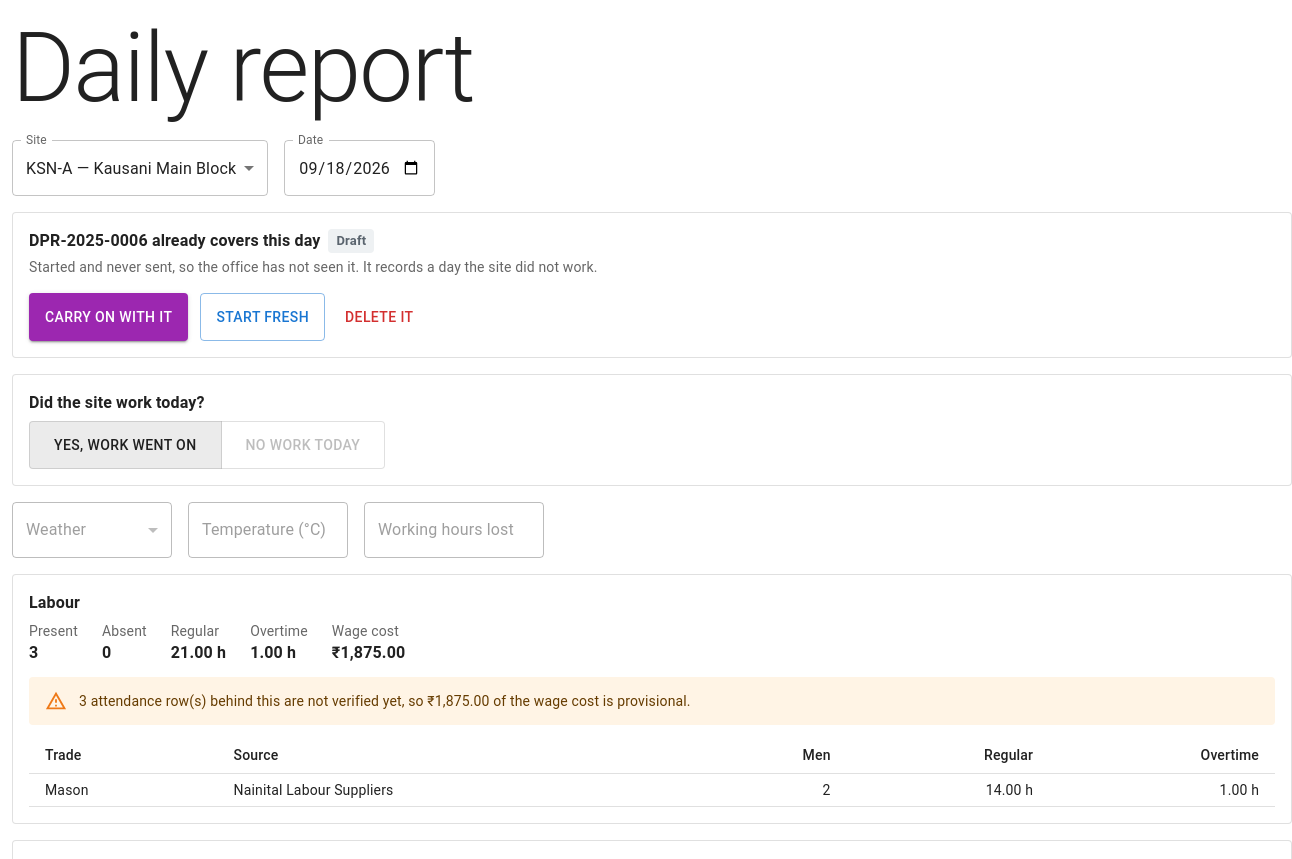
Test: DprWizardPage › carries a lost day’s cause back into the form
The image size is (1292, 859).
What coordinates should you click on to do the following:
click the button "Carry on with it"
I would click on:
 (109, 317)
Its box is [29,293,188,341].
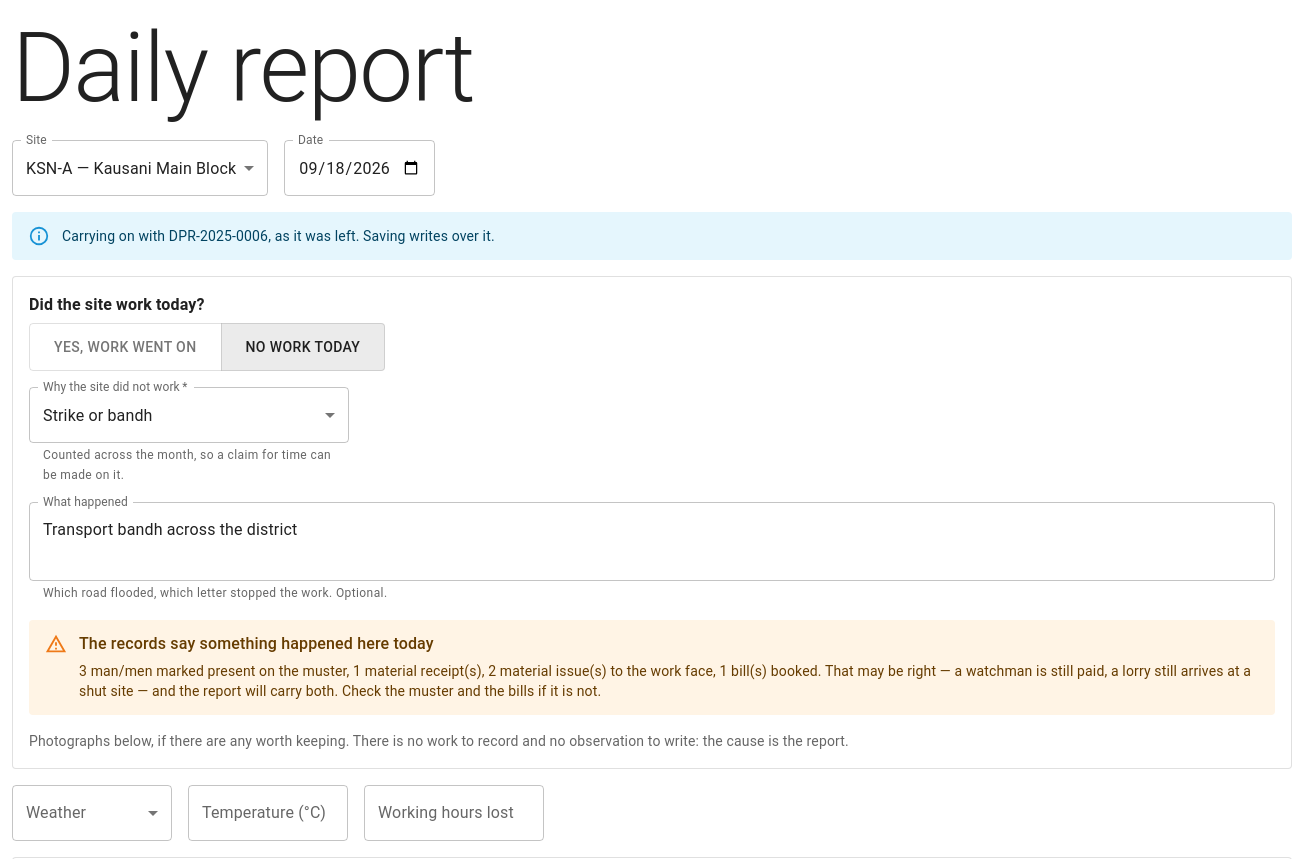
Expected: the dropdown named "Why the site did not work" reads "Strike or bandh", [43,406,153,425]
Expected: the text box labelled "What happened" holds "Transport bandh across the district", [43,518,1261,564]
